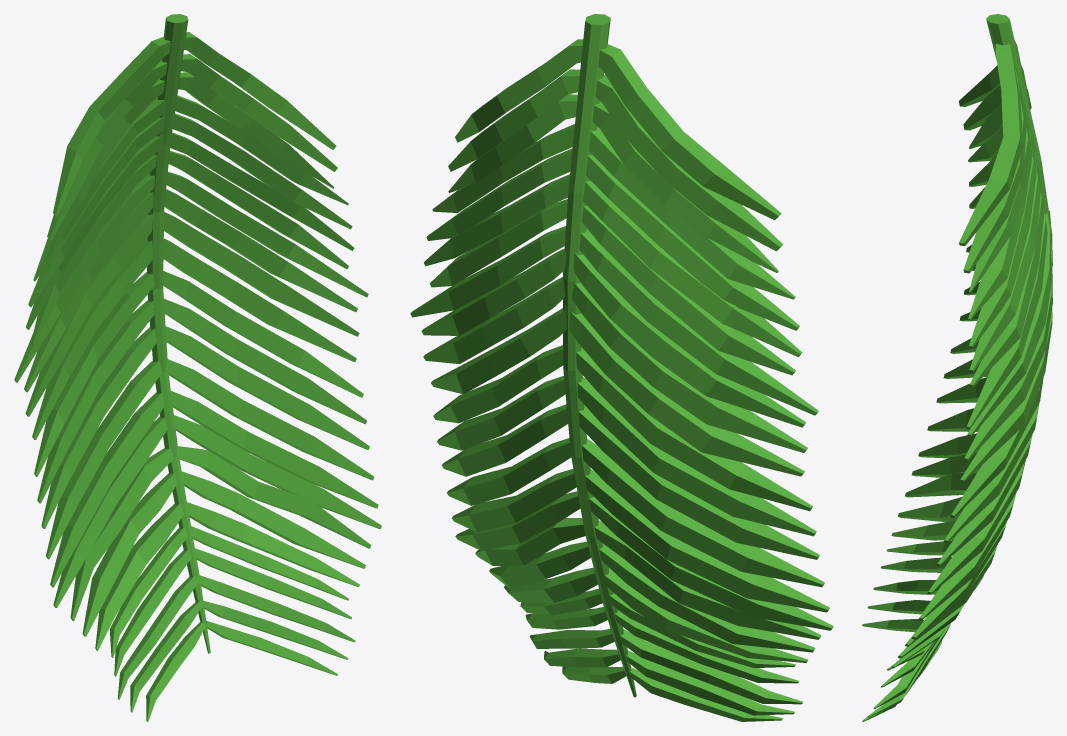
Rendered from ENVI_LV2-3_Daun1 1.fbx.
The picture shows the model from 3 angles, left to right: view 1: azimuth 30°, elevation 25°; view 2: azimuth 150°, elevation 25°; view 3: azimuth 270°, elevation 25°; orthographic projection. The views are drawn at different scales.
Parts seen in each view (by area): view 1: Daun1; view 2: Daun1; view 3: Daun1.
Part boxes in pixels (bbox=[...]): Daun1: bbox=[14, 14, 381, 721]; Daun1: bbox=[410, 14, 833, 721]; Daun1: bbox=[862, 14, 1052, 721].
Size of the model in its own units: 149 by 256 by 67.47.
